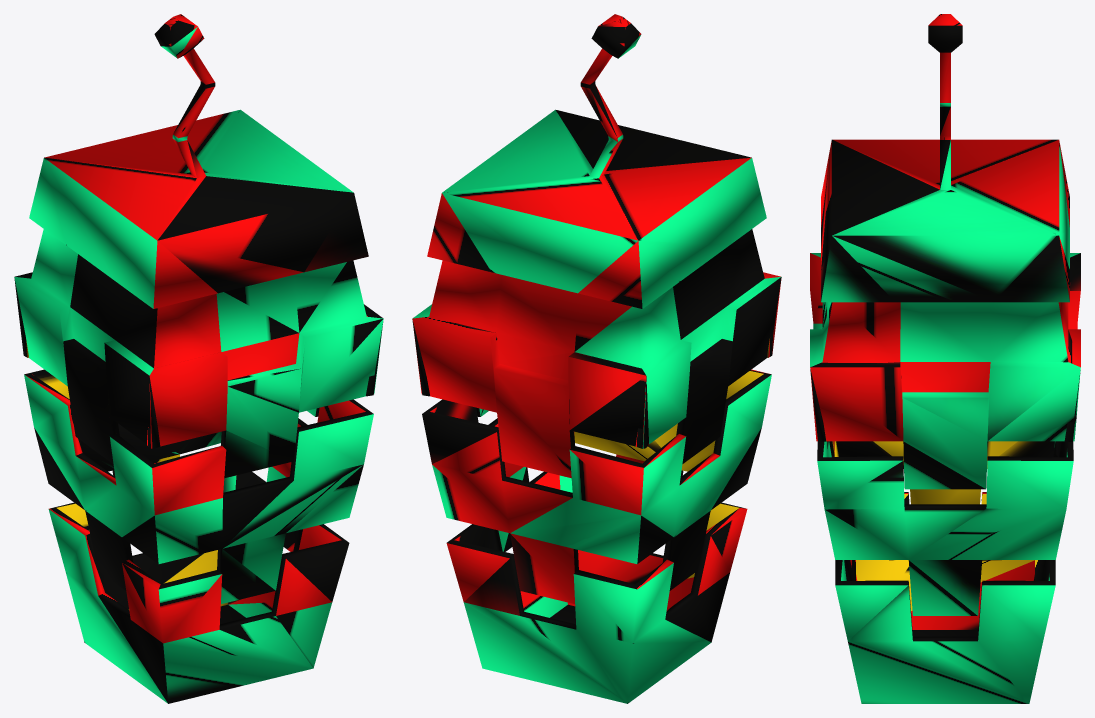
The model's file is char03.fbx.
The picture shows the model from 3 angles, left to right: view 1: azimuth 30°, elevation 25°; view 2: azimuth 150°, elevation 25°; view 3: azimuth 270°, elevation 25°; orthographic projection.
Parts seen in each view (by area): view 1: Box04; view 2: Box04; view 3: Box04.
Part boxes in pixels (x1,y1,x2,y2): Box04: (14,14,383,703); Box04: (412,14,781,703); Box04: (810,14,1080,703).
Bounding box in the file's own units: 19.69 × 51.61 × 19.69.
